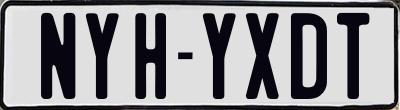D: (289, 13, 325, 100)
H: (132, 11, 165, 99)
N: (39, 12, 77, 103)
T: (334, 12, 366, 103)
X: (243, 11, 281, 102)
Y: (84, 10, 120, 99), (200, 13, 236, 100)
